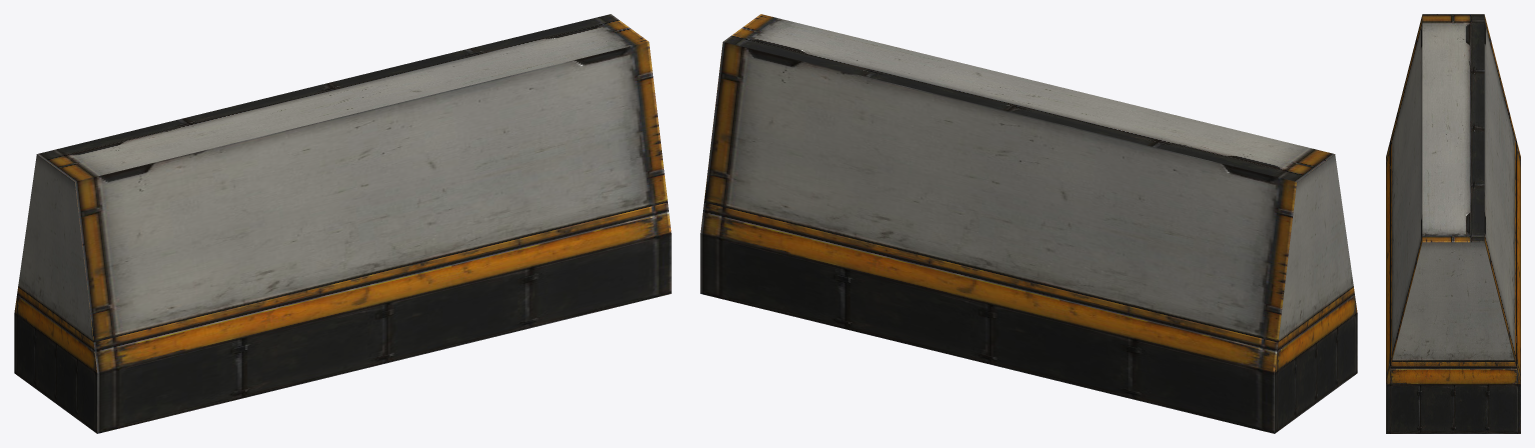
The model's file is barrage.FBX.
3 views of the same model, side by side, from view 1: azimuth 30°, elevation 25°; view 2: azimuth 150°, elevation 25°; view 3: azimuth 270°, elevation 25° (orthographic). The views are drawn at different scales.
Parts seen in each view (by area): view 1: Box001; view 2: Box001; view 3: Box001.
Boxes of the visible parts, x1,y1,x2,y2 form: Box001: (14,14,671,433); Box001: (700,14,1357,433); Box001: (1386,14,1520,433).
Bounding box in the file's own units: 10 × 3.92 × 2.5.
